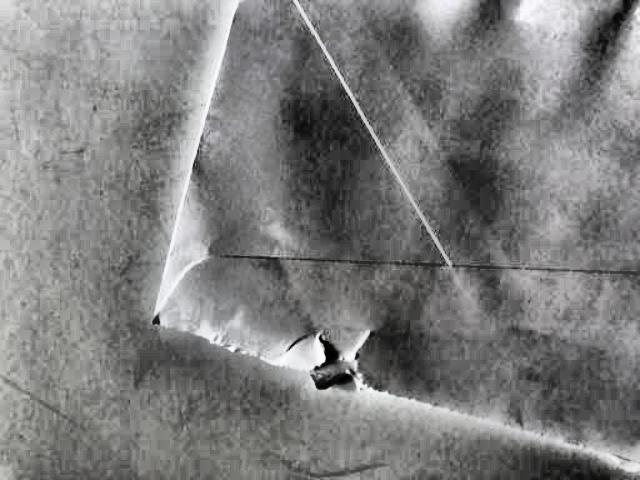Paper: (150, 0, 640, 480)
